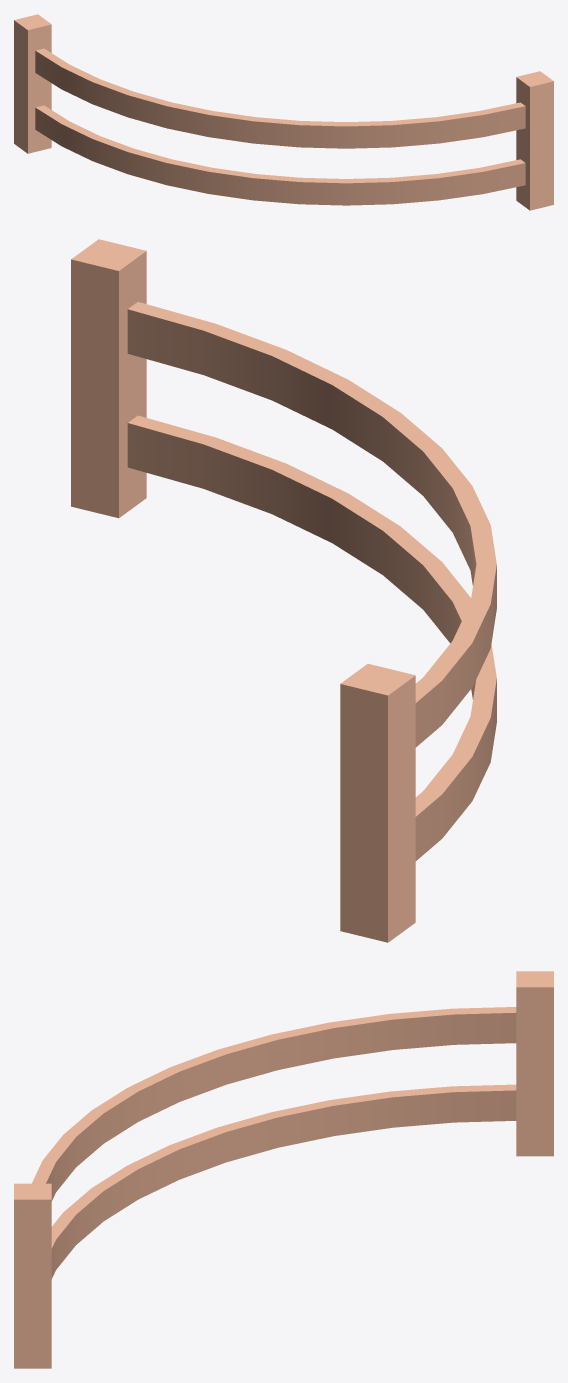
File: fence_bend.gltf
The picture shows the model from 3 angles, top to bottom: view 1: azimuth 30°, elevation 25°; view 2: azimuth 150°, elevation 25°; view 3: azimuth 270°, elevation 25°; orthographic projection. The views are drawn at different scales.
Visible parts, largest first — view 1: fence_bend; view 2: fence_bend; view 3: fence_bend.
Boxes of the visible parts, bbox=[...] form: fence_bend: bbox=[14, 14, 553, 210]; fence_bend: bbox=[71, 239, 496, 942]; fence_bend: bbox=[14, 971, 553, 1368].
Bounding box in the file's own units: 1 × 0.345 × 1.
